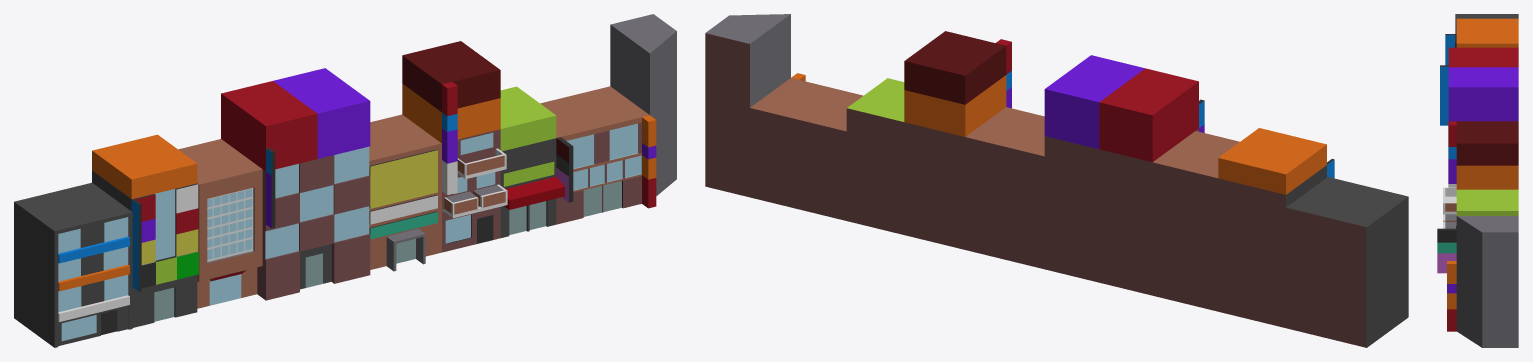
The model's file is MainStreetBlock1.fbx.
3 views of the same model, side by side, from view 1: azimuth 30°, elevation 25°; view 2: azimuth 150°, elevation 25°; view 3: azimuth 270°, elevation 25° (orthographic). The views are drawn at different scales.
Parts seen in each view (by area): view 1: Cube; view 2: Cube; view 3: Cube.
Part boxes in pixels (<box>): Cube: <box>14,14,676,347</box>; Cube: <box>705,14,1408,347</box>; Cube: <box>1437,14,1518,347</box>.
Size of the model in its own units: 60256 by 15695 by 8493.
